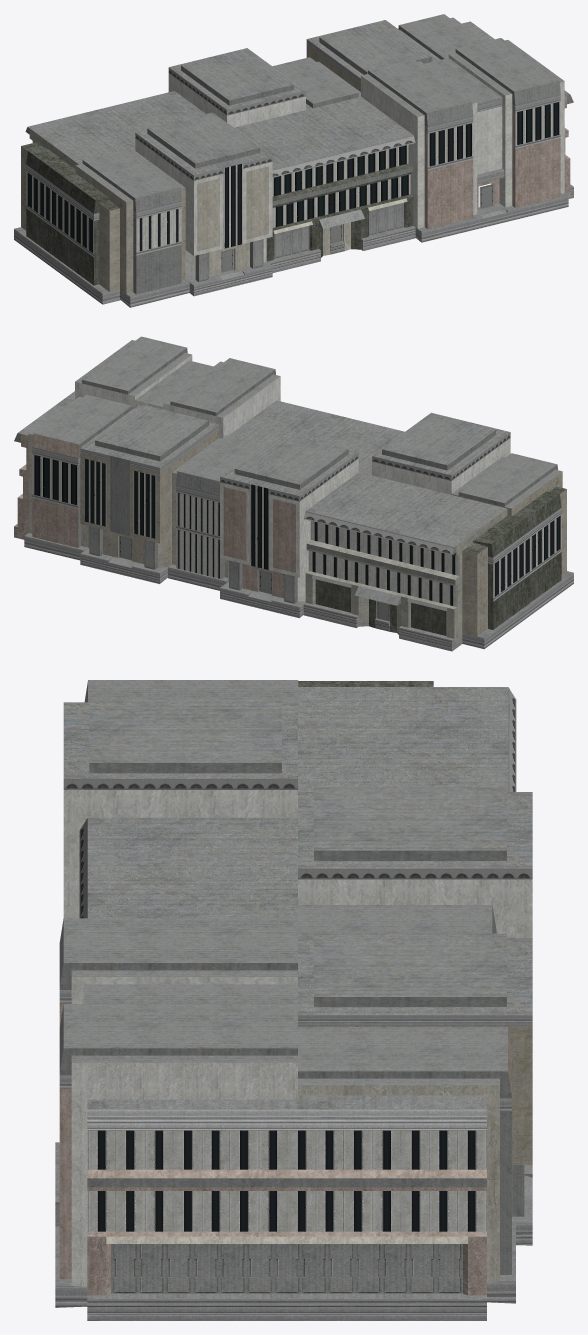
The model's file is thm_corl_imprv_building_block_64x32_s01_l1.fbx.
The picture shows the model from 3 angles, top to bottom: view 1: azimuth 30°, elevation 25°; view 2: azimuth 150°, elevation 25°; view 3: azimuth 270°, elevation 25°; orthographic projection. The views are drawn at different scales.
Parts seen in each view (by area): view 1: mesh_node; view 2: mesh_node; view 3: mesh_node.
Boxes of the visible parts, x1=… form: mesh_node: x1=14, y1=14, x2=573, y2=307; mesh_node: x1=14, y1=336, x2=573, y2=651; mesh_node: x1=55, y1=680, x2=532, y2=1320.
Bounding box in the file's own units: 66.11 × 17.25 × 29.5.
